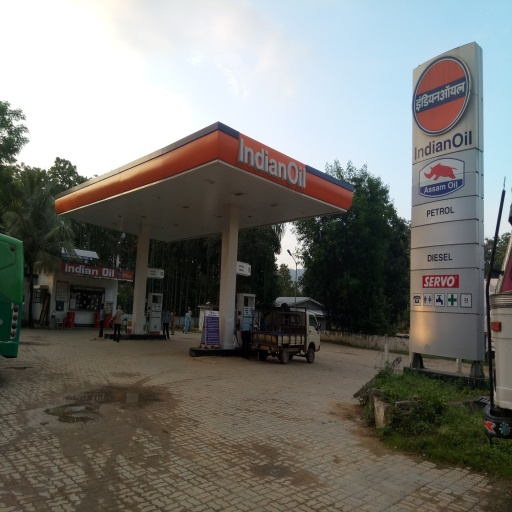roof: (55, 121, 353, 245)
